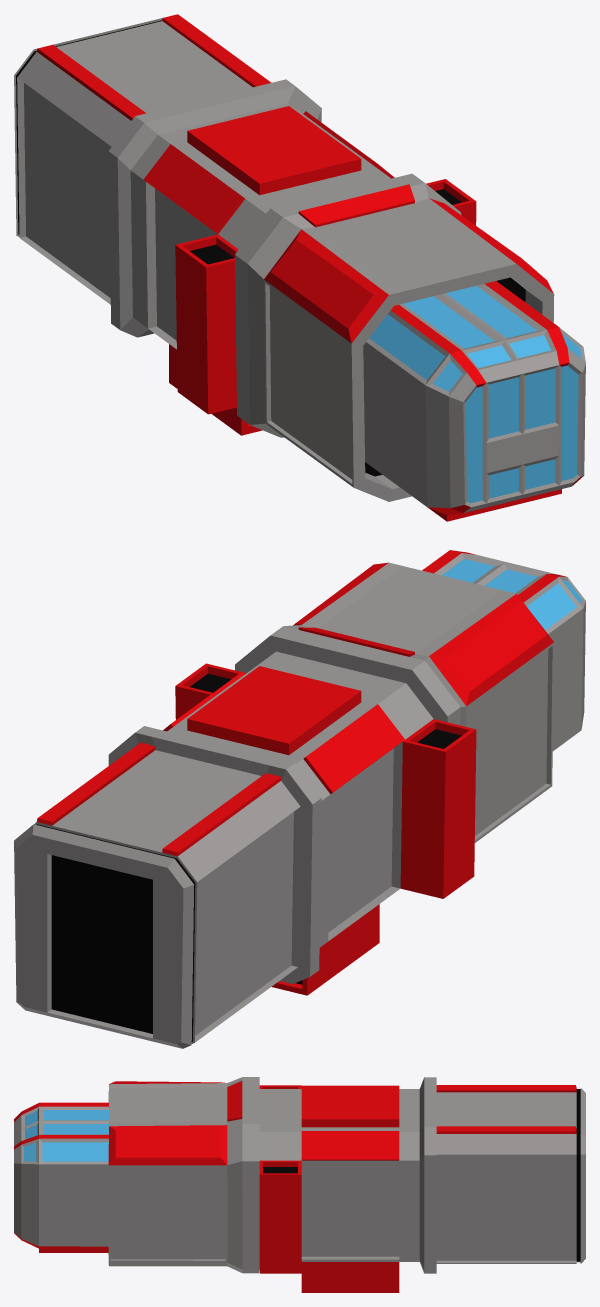
File: Atlas.fbx
The picture shows the model from 3 angles, top to bottom: view 1: azimuth 30°, elevation 25°; view 2: azimuth 150°, elevation 25°; view 3: azimuth 270°, elevation 25°; orthographic projection. The views are drawn at different scales.
Parts seen in each view (by area): view 1: Plane; view 2: Plane; view 3: Plane.
Boxes of the visible parts, box(x1,y1,x2,y2) form: Plane: box(14, 14, 585, 521); Plane: box(14, 550, 585, 1048); Plane: box(14, 1077, 585, 1292).
Size of the model in its own units: 828 by 740 by 2242.
